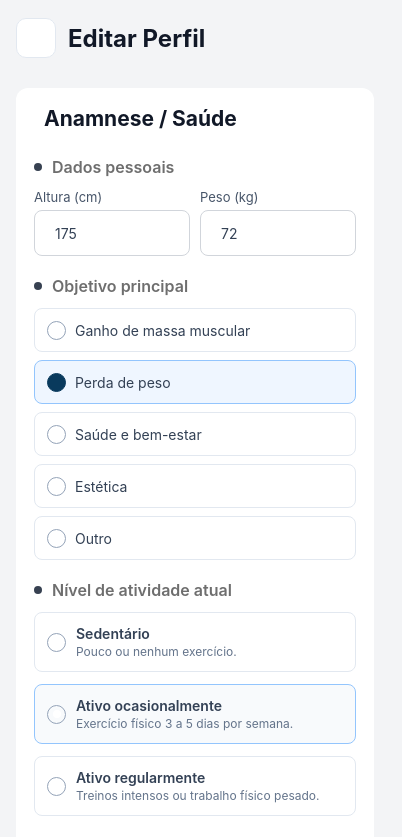
Test: EditAnamnesisScreen › bloqueia altura fora do intervalo permitido
The image size is (402, 837).
Replace the text in the field showing "175" below "Altura (cm)" with "90" at [164, 233], box [55,214,273,252]
(page scrolled)
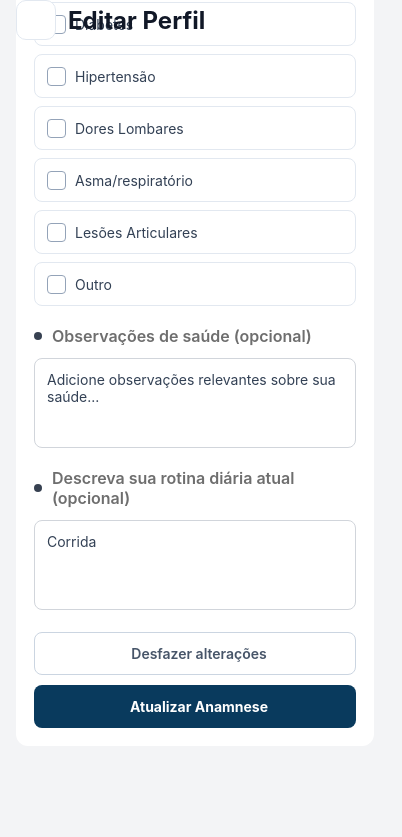
Click the text "Atualizar Anamnese".
click(199, 706)  # box [130,698,268,715]
(page scrolled)
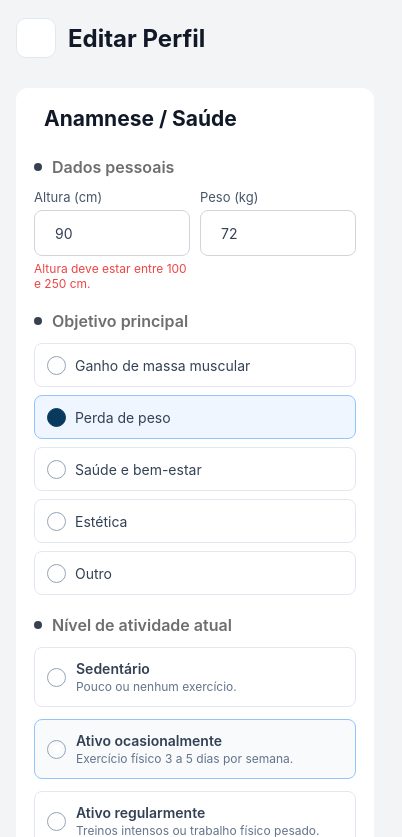
Check: the text "Altura deve estar entre 100 e 250 cm." is shown, box [34,261,190,291]
